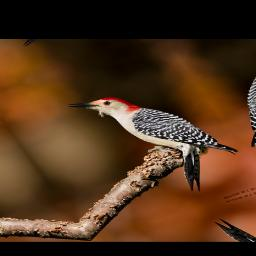Woodpecker: (66, 69, 256, 210)
